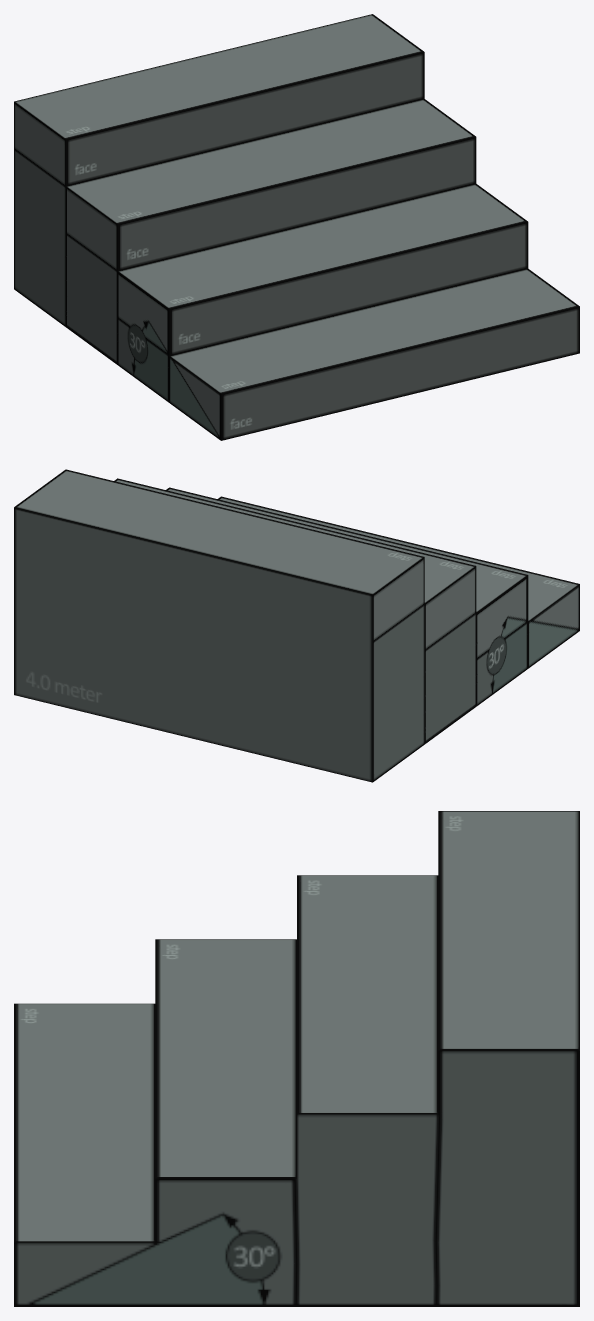
File: Stairs_30_02.fbx
3 renders of one model, top to bottom at view 1: azimuth 30°, elevation 25°; view 2: azimuth 150°, elevation 25°; view 3: azimuth 270°, elevation 25°, orthographic. The views are drawn at different scales.
Parts seen in each view (by area): view 1: Stairs_30_02; view 2: Stairs_30_02; view 3: Stairs_30_02.
Part boxes in pixels (<box>): Stairs_30_02: <box>14,14,579,440</box>; Stairs_30_02: <box>14,469,579,782</box>; Stairs_30_02: <box>14,811,579,1306</box>.
Bounding box in the file's own units: 4 × 2 × 4.
